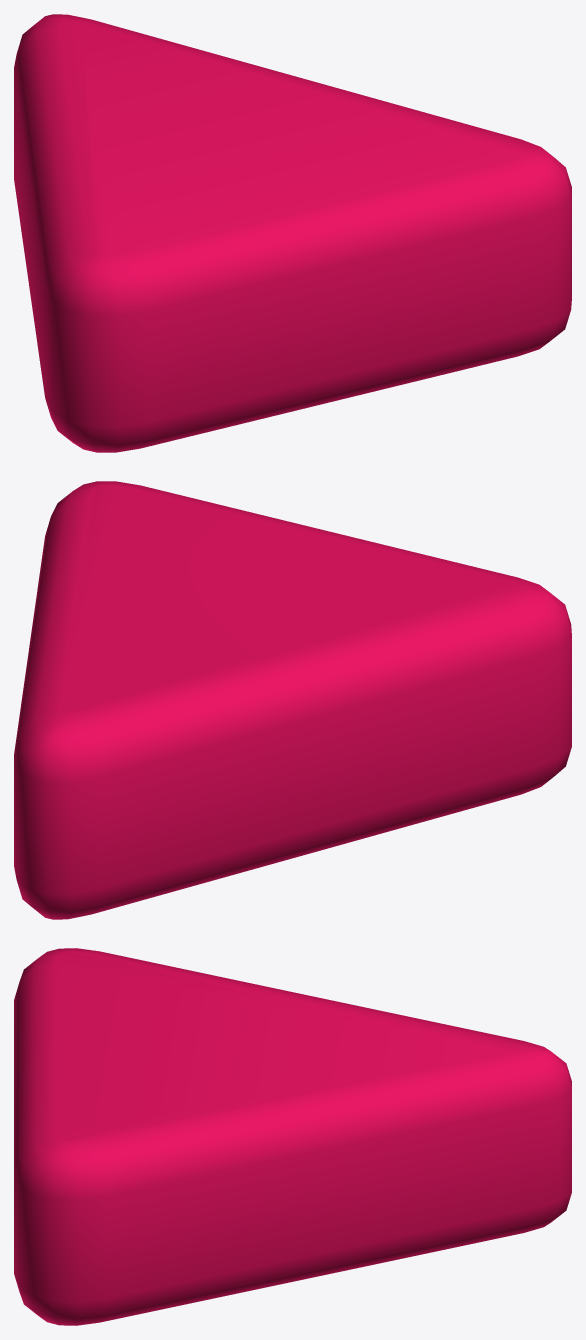
Rendered from Triangle.fbx.
3 renders of one model, top to bottom at view 1: azimuth 30°, elevation 25°; view 2: azimuth 150°, elevation 25°; view 3: azimuth 270°, elevation 25°, orthographic. The views are drawn at different scales.
Parts seen in each view (by area): view 1: triangle; view 2: triangle; view 3: triangle.
Part boxes in pixels (x1,y1,x2,y2): triangle: [14, 14, 571, 452]; triangle: [14, 481, 571, 919]; triangle: [14, 948, 571, 1325].
Bounding box in the file's own units: 176 × 63.73 × 182.
